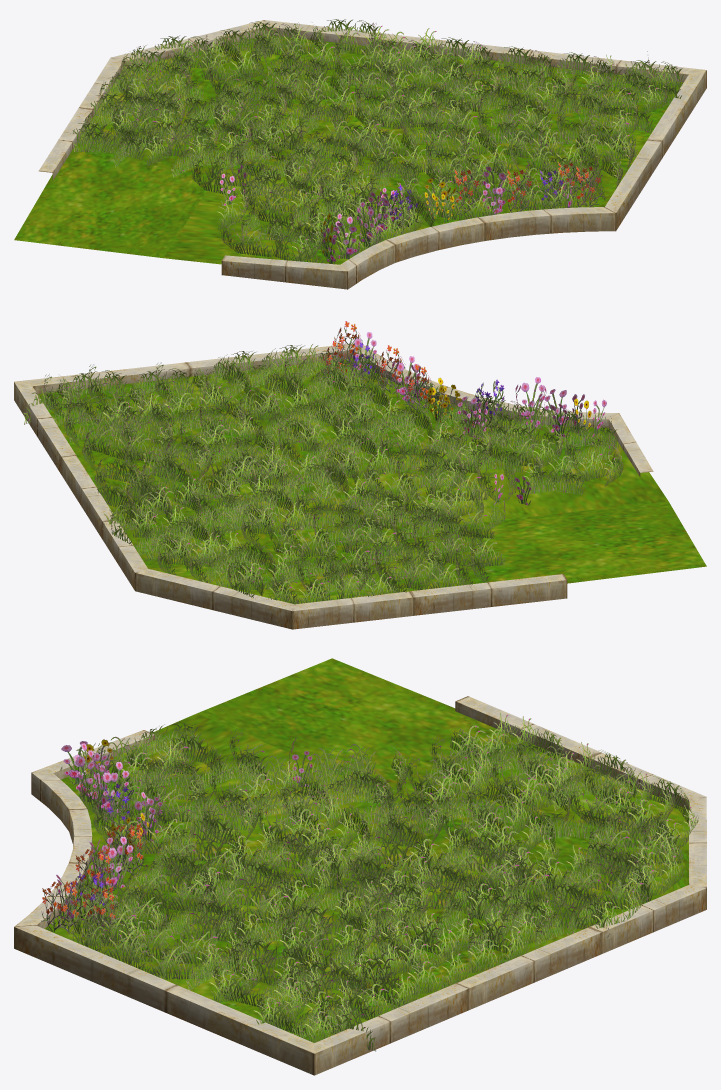
File: a_SEcenter03b.glb
3 views of the same model, one above another, from view 1: azimuth 30°, elevation 25°; view 2: azimuth 150°, elevation 25°; view 3: azimuth 270°, elevation 25° (orthographic). The views are drawn at different scales.
Parts seen in each view (by area): view 1: a_SEcenter03b; view 2: a_SEcenter03b; view 3: a_SEcenter03b.
Part boxes in pixels (left/top/right/bottom): a_SEcenter03b: left=14, top=19, right=706, bottom=289; a_SEcenter03b: left=14, top=321, right=706, bottom=629; a_SEcenter03b: left=14, top=658, right=706, bottom=1075.
Bounding box in the file's own units: 14.38 × 1.26 × 10.39.
Materials: 4 (4 with a texture image).
